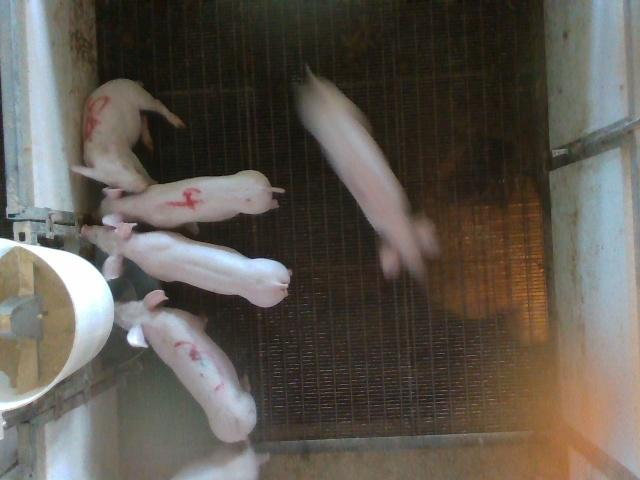pig-2: (295, 66, 440, 281)
pig-3: (115, 290, 256, 442)
pig-4: (98, 170, 284, 228)
pig-5: (71, 79, 184, 192)
